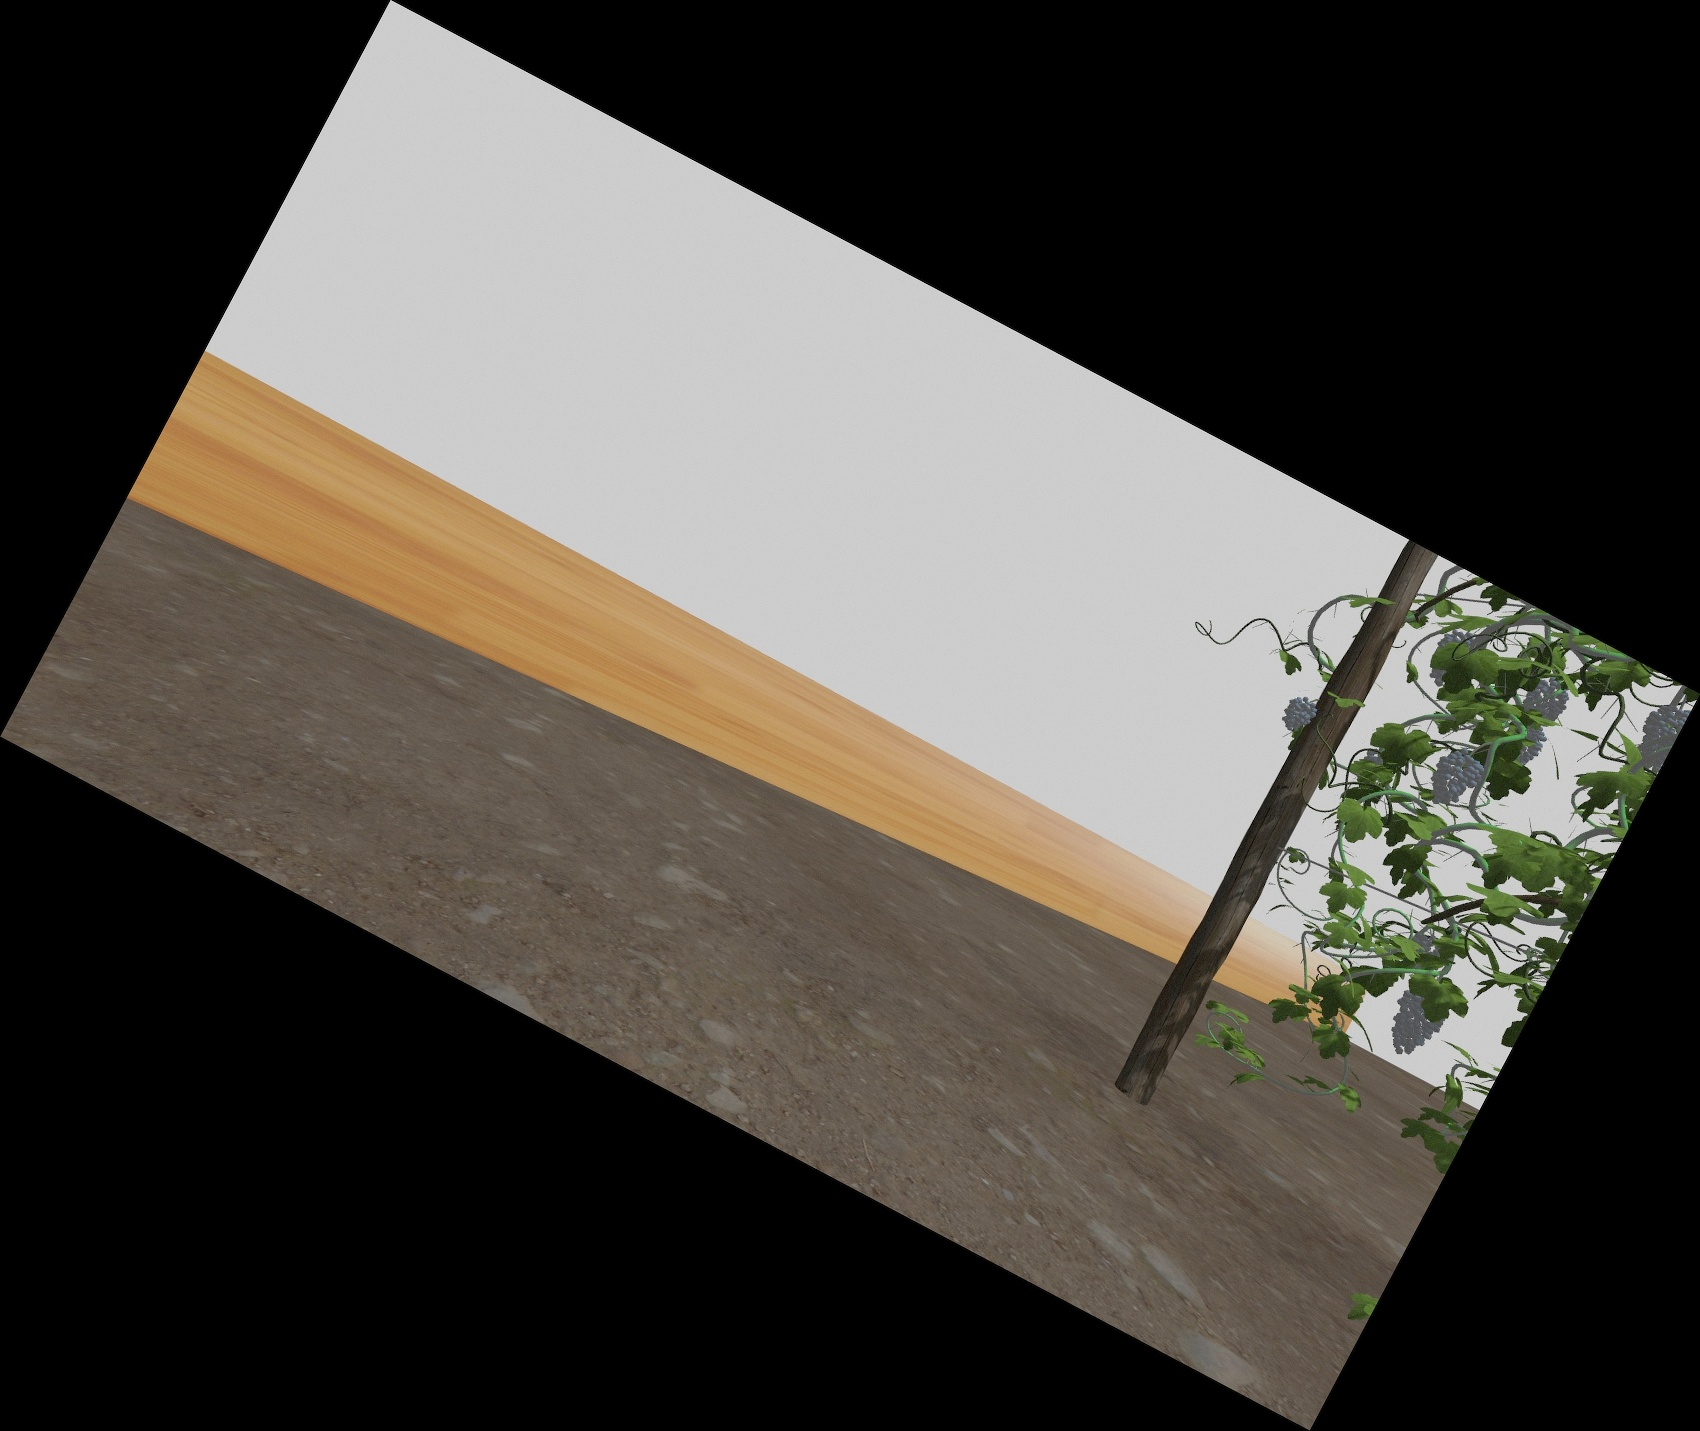grape: (1391, 991, 1439, 1055), (1435, 750, 1477, 806), (1639, 704, 1672, 767), (1525, 679, 1565, 723), (1284, 698, 1313, 733)
